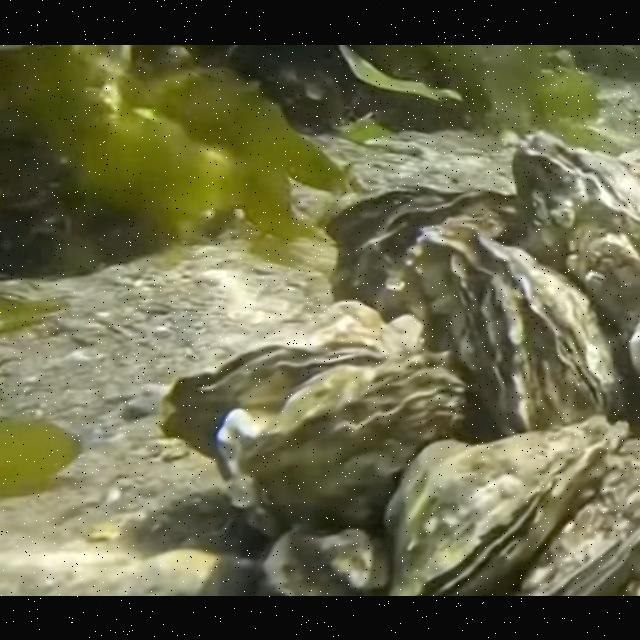Oyster-Closed: (216, 348, 464, 516), (451, 228, 621, 434)
Oyster-Open: (384, 413, 630, 595), (158, 336, 384, 480), (322, 185, 516, 322), (506, 128, 640, 322), (517, 476, 640, 596)
